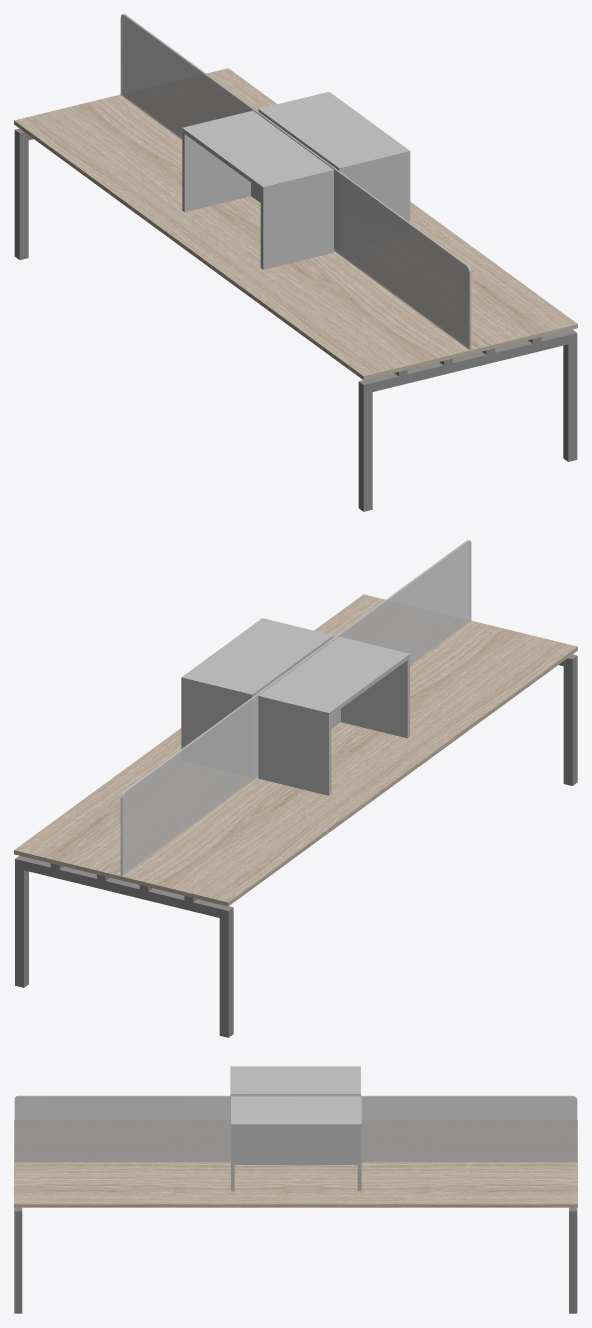
The model's file is Desktop_4P_02.FBX.
3 views of the same model, one above another, from view 1: azimuth 30°, elevation 25°; view 2: azimuth 150°, elevation 25°; view 3: azimuth 270°, elevation 25° (orthographic). The views are drawn at different scales.
Parts seen in each view (by area): view 1: Desktop_4P_02; view 2: Desktop_4P_02; view 3: Desktop_4P_02.
Part boxes in pixels (bbox=[...]): Desktop_4P_02: bbox=[14, 14, 577, 511]; Desktop_4P_02: bbox=[14, 540, 577, 1037]; Desktop_4P_02: bbox=[14, 1066, 577, 1313].
Size of the model in its own units: 1.9 by 1.85 by 5.37.
